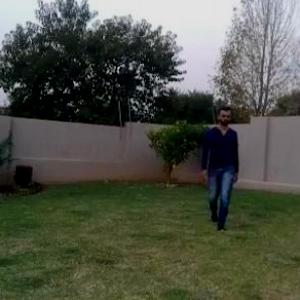follow: (202, 108, 241, 230)
